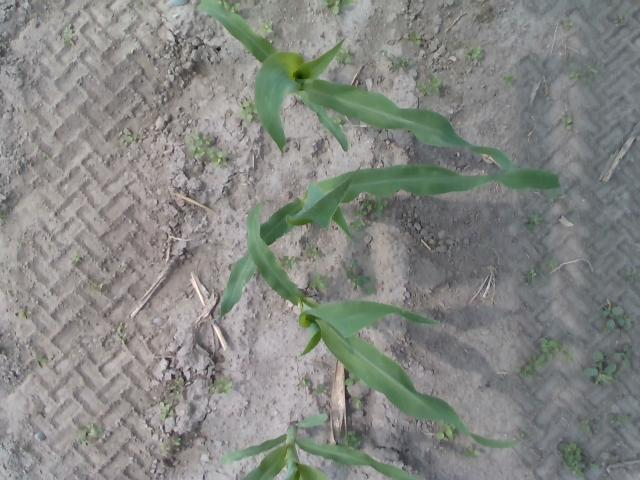Maize: (246, 198, 518, 449), (200, 0, 518, 171), (220, 164, 560, 316), (220, 413, 416, 480)
Weeds: (344, 263, 376, 296), (586, 352, 616, 380), (562, 443, 586, 476), (537, 338, 558, 364), (600, 306, 624, 328), (191, 134, 206, 161), (420, 78, 442, 95), (326, 0, 348, 16), (515, 356, 533, 374), (616, 342, 632, 362), (303, 244, 323, 260), (80, 424, 100, 440), (358, 200, 374, 218), (208, 148, 224, 164), (241, 102, 253, 123), (346, 430, 360, 447), (212, 380, 232, 391), (436, 430, 454, 442), (466, 48, 486, 58), (390, 61, 408, 72), (524, 216, 540, 228), (312, 276, 326, 289), (280, 255, 300, 264), (90, 280, 104, 292), (375, 200, 389, 211), (351, 218, 365, 229), (340, 51, 352, 63), (411, 33, 422, 46), (64, 29, 74, 43), (437, 421, 452, 430), (524, 269, 536, 280), (160, 403, 170, 416), (119, 130, 132, 140), (262, 22, 274, 32), (20, 306, 30, 318), (36, 353, 48, 363), (582, 419, 592, 430), (302, 378, 312, 389), (172, 378, 184, 386), (314, 382, 326, 390), (614, 15, 624, 24), (345, 376, 354, 386), (72, 258, 83, 266), (170, 437, 182, 444), (504, 75, 513, 84), (564, 120, 573, 129), (570, 70, 580, 78), (586, 66, 596, 74), (568, 22, 574, 27)
